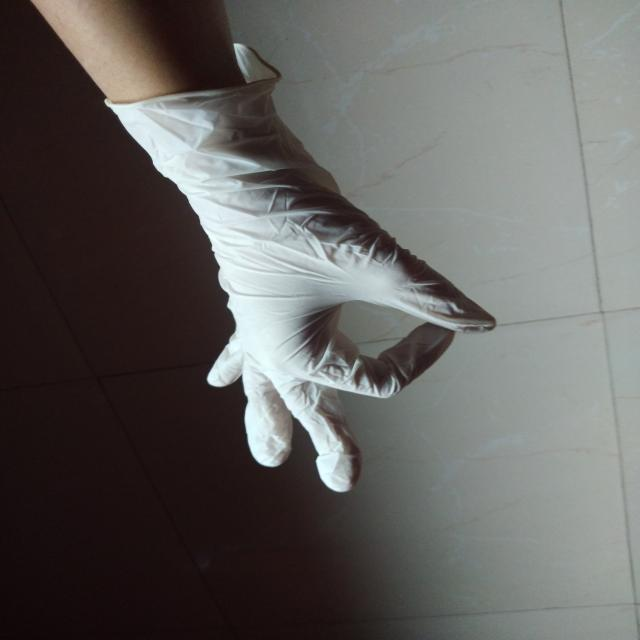gloved_hand: (76, 39, 504, 497)
